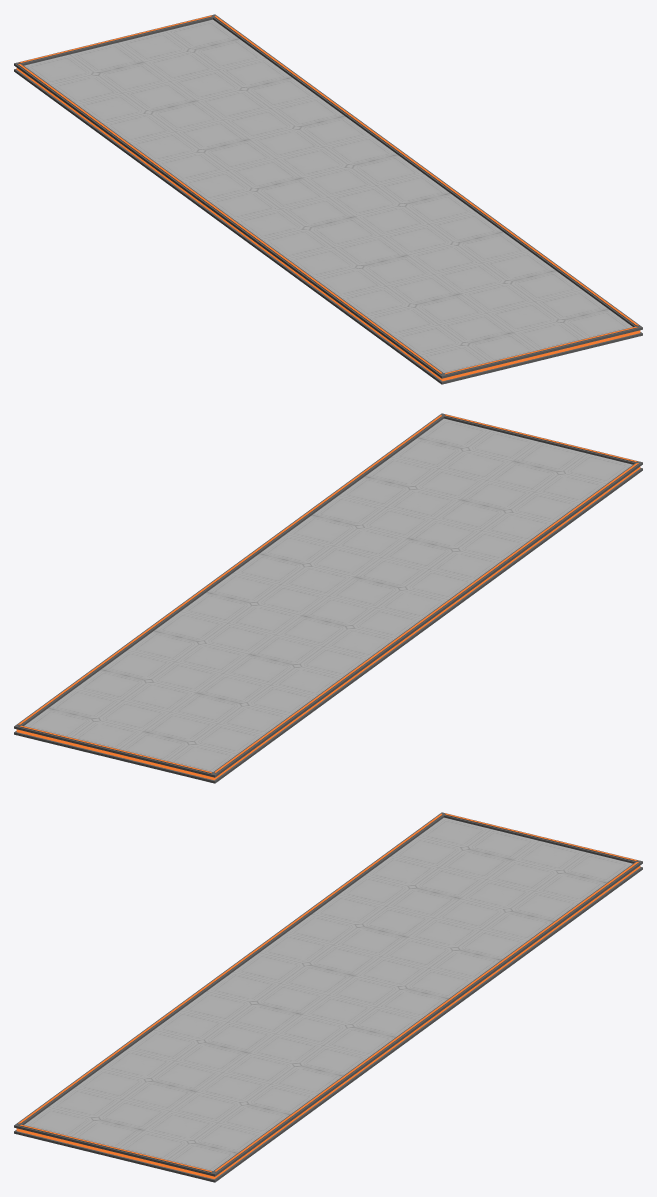
File: Bodenplatte_05.glb
The picture shows the model from 3 angles, top to bottom: view 1: azimuth 30°, elevation 25°; view 2: azimuth 150°, elevation 25°; view 3: azimuth 330°, elevation 25°; orthographic projection.
Visible parts, largest first — view 1: Bodenplatte_05; view 2: Bodenplatte_05; view 3: Bodenplatte_05.
Part boxes in pixels (x1,y1,x2,y2): Bodenplatte_05: (14,14,642,384); Bodenplatte_05: (14,413,642,783); Bodenplatte_05: (14,812,642,1182).
Bounding box in the file's own units: 5.05 × 0.2097 × 18.61.
Materials: 3 (1 with a texture image).
